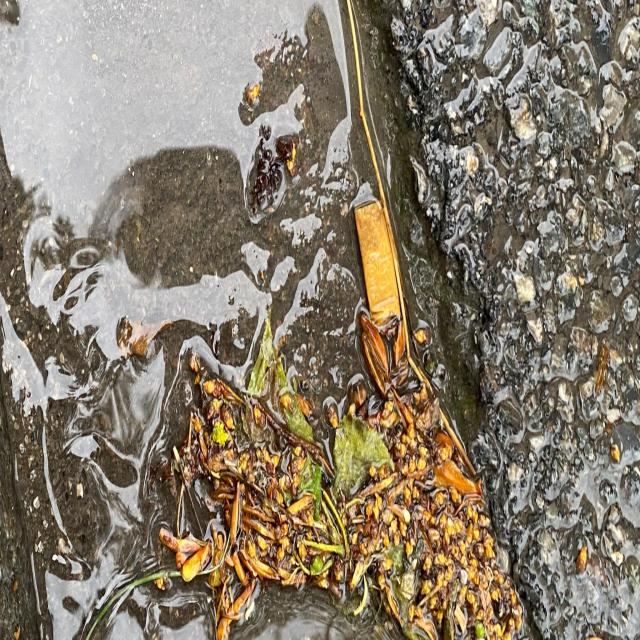other waste: (353, 198, 403, 334)
